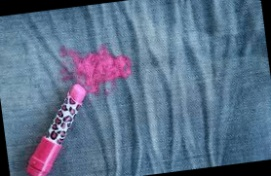lipstick: (55, 46, 134, 98), (56, 43, 90, 70)
